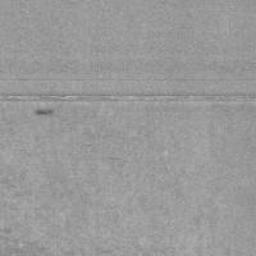Welding line: (0, 93, 256, 102)
